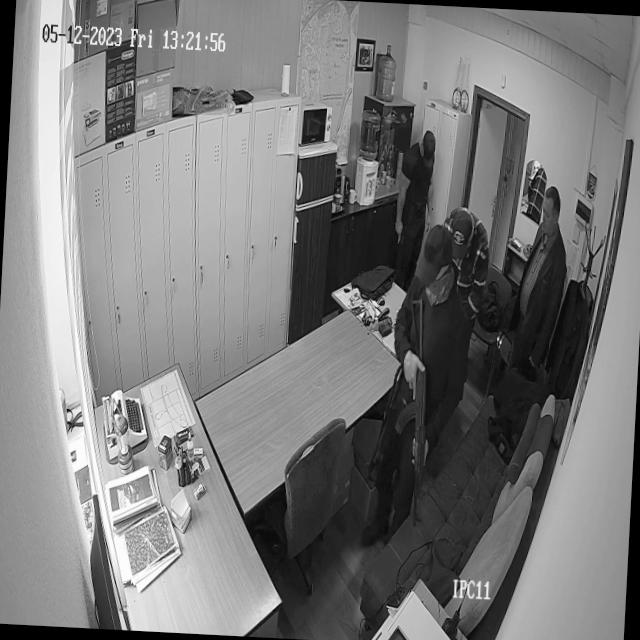gun: (398, 289, 439, 546), (392, 211, 409, 255)
person: (510, 178, 575, 408)
person with a gun: (385, 216, 472, 543), (388, 117, 437, 290)
